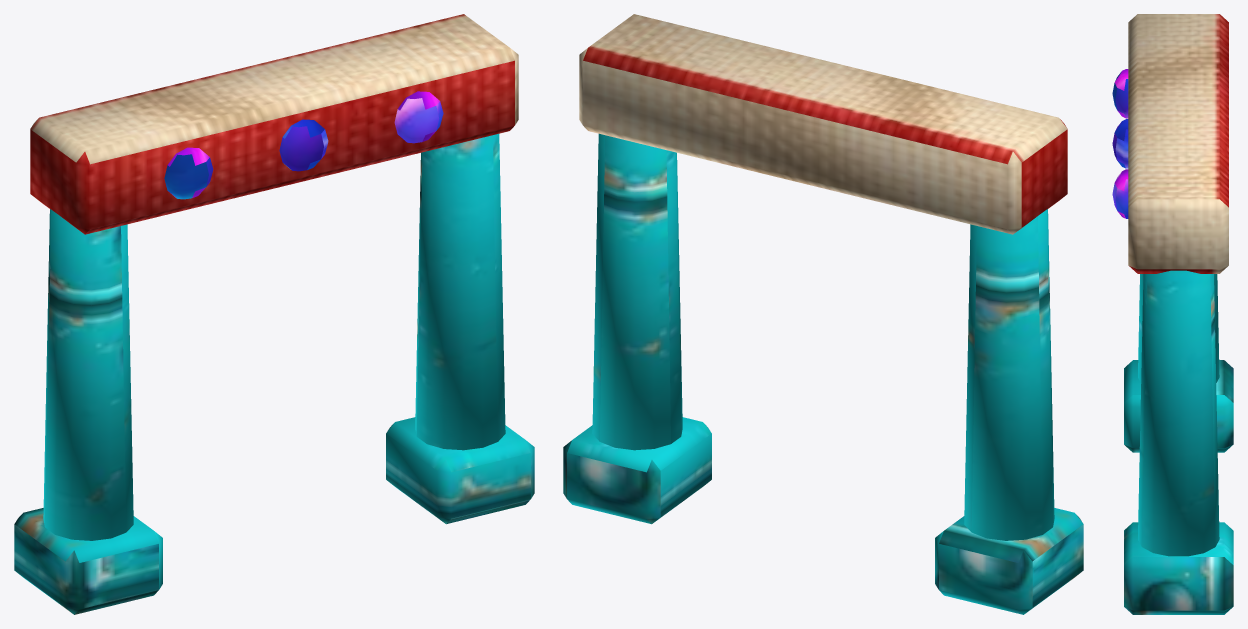
Rendered from arco_salida.glb.
3 views of the same model, side by side, from view 1: azimuth 30°, elevation 25°; view 2: azimuth 150°, elevation 25°; view 3: azimuth 270°, elevation 25° (orthographic). The views are drawn at different scales.
Parts seen in each view (by area): view 1: arco_salida; view 2: arco_salida; view 3: arco_salida.
Boxes of the visible parts, x1,y1,x2,y2 form: arco_salida: (14, 14, 534, 614); arco_salida: (563, 14, 1083, 614); arco_salida: (1112, 14, 1233, 614).
Bounding box in the file's own units: 1 × 0.934 × 0.25.
Materials: 3 (3 with a texture image).
